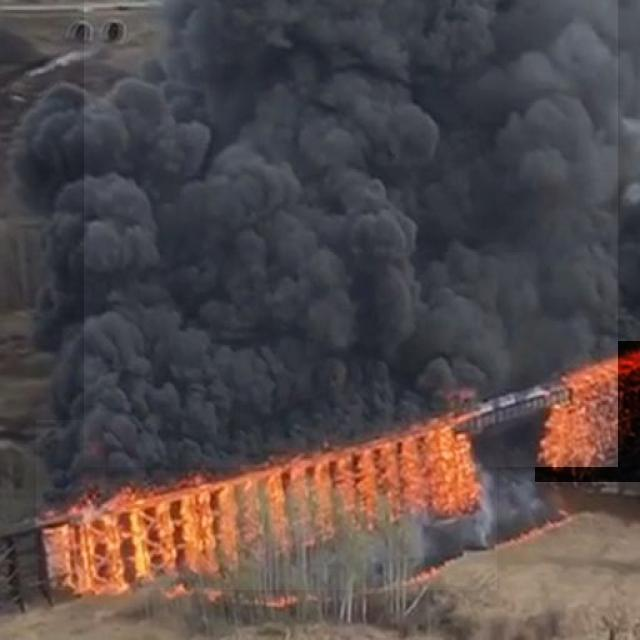Fire: (36, 420, 497, 590), (535, 341, 640, 482)
Smoke: (84, 0, 618, 467)
